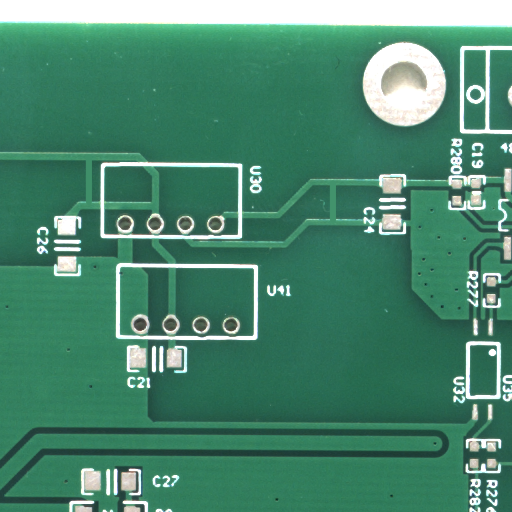Short: (89, 181, 100, 229), (333, 202, 342, 242)
